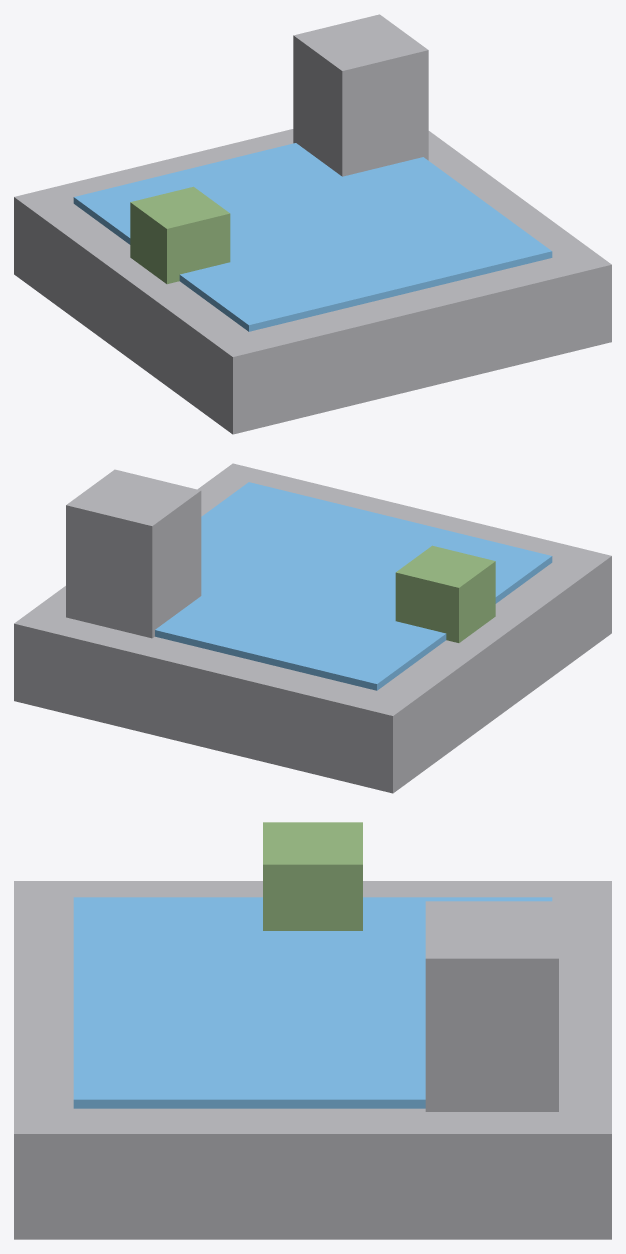
File: Prop_Water_AMF_SpringBasin_V8.glb
The picture shows the model from 3 angles, top to bottom: view 1: azimuth 30°, elevation 25°; view 2: azimuth 150°, elevation 25°; view 3: azimuth 270°, elevation 25°; orthographic projection. The views are drawn at different scales.
Parts seen in each view (by area): view 1: Prop_Water_AMF_SpringBasin_V8; view 2: Prop_Water_AMF_SpringBasin_V8; view 3: Prop_Water_AMF_SpringBasin_V8.
Boxes of the visible parts, box(x1,y1,x2,y2) form: Prop_Water_AMF_SpringBasin_V8: box(14, 14, 611, 434); Prop_Water_AMF_SpringBasin_V8: box(14, 463, 611, 793); Prop_Water_AMF_SpringBasin_V8: box(14, 822, 611, 1239).
Bounding box in the file's own units: 1.79 × 0.8571 × 1.79.
